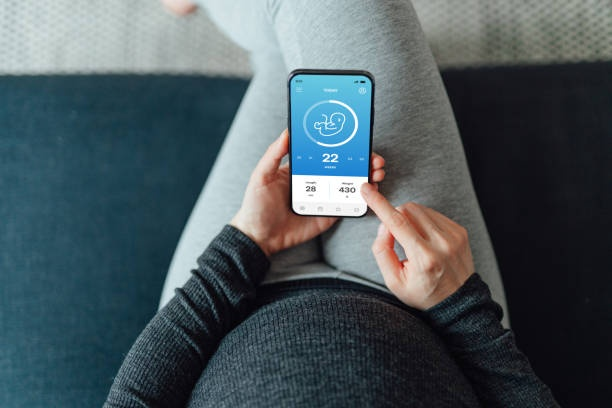phone: (286, 68, 375, 218)
